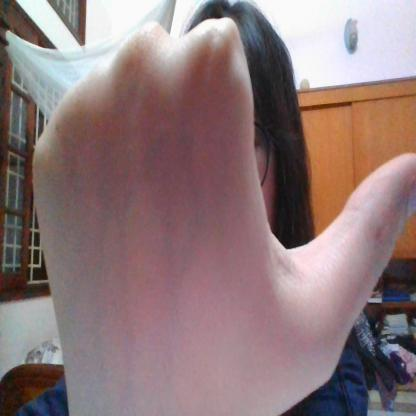left: (32, 17, 416, 415)
